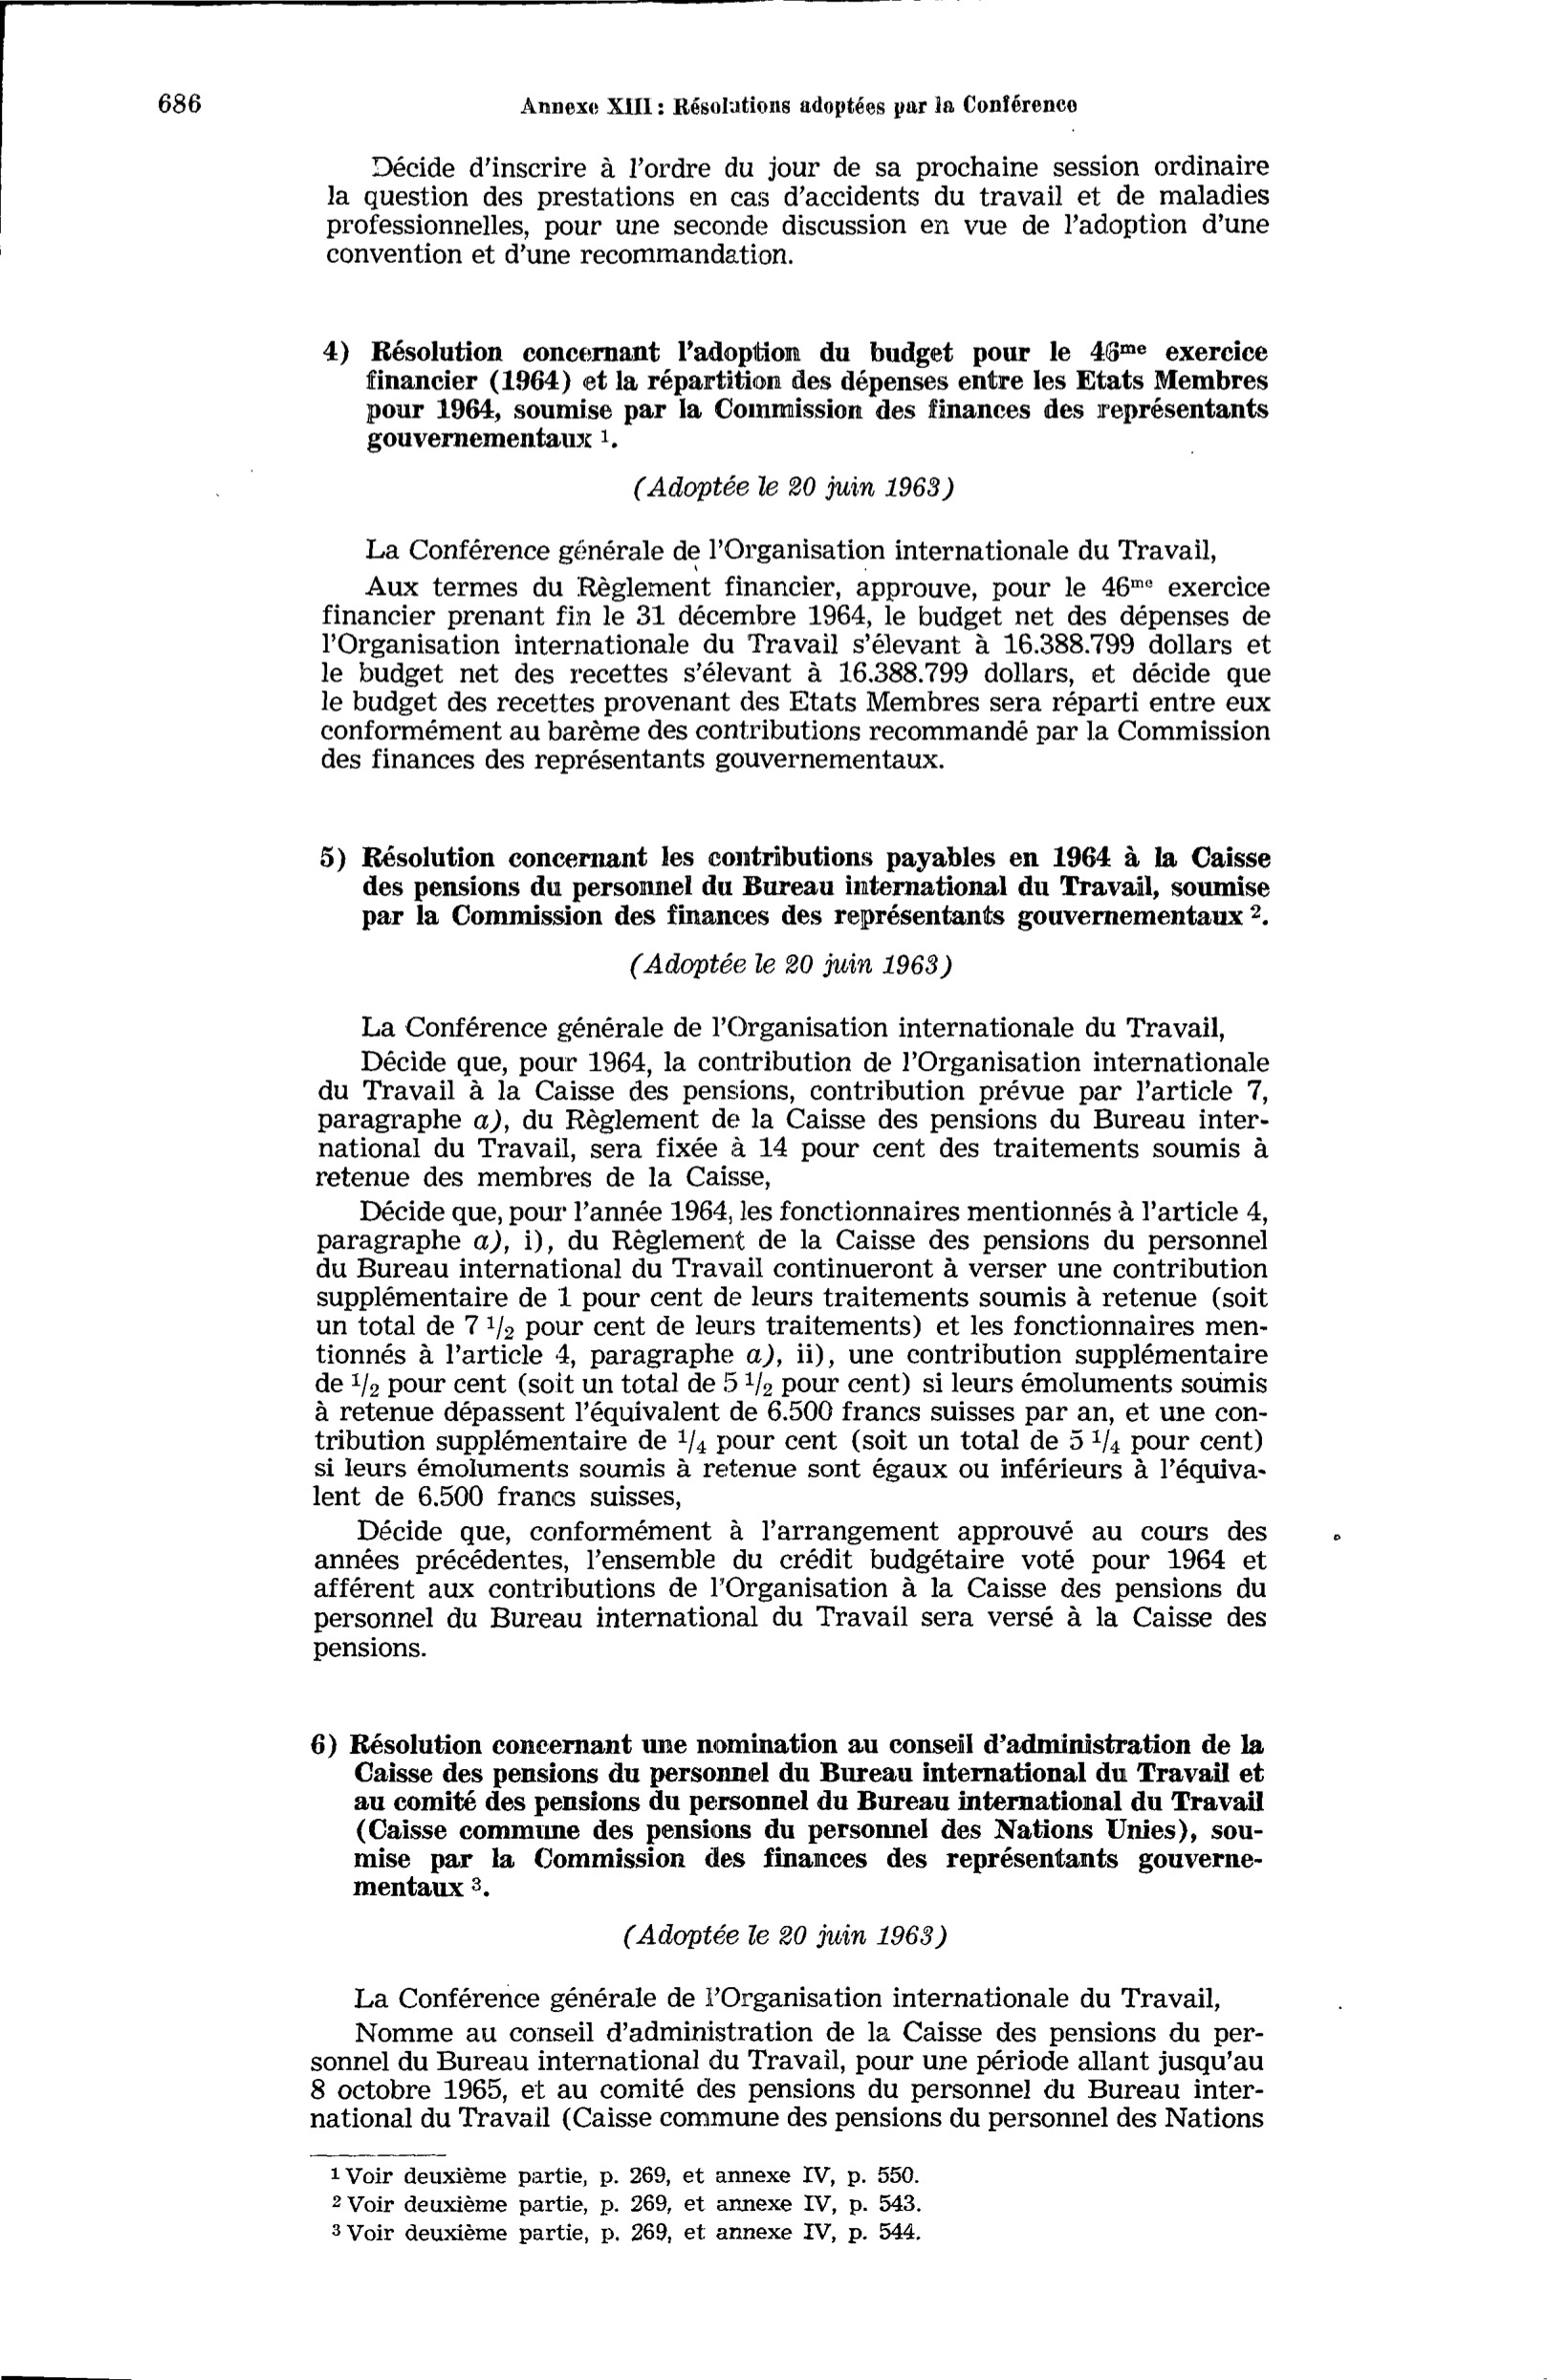MainZone-Date: (613, 1911, 963, 1959), (619, 943, 967, 988), (623, 466, 966, 511)
MainZone-Head: (298, 1722, 1276, 1905), (313, 330, 1276, 457), (310, 833, 1279, 938)
MainZone-P: (305, 1193, 1278, 1510), (310, 570, 1279, 780), (296, 1512, 1277, 1667), (306, 1044, 1281, 1192), (310, 145, 1279, 277), (302, 2016, 1275, 2142), (304, 1975, 1264, 2017), (302, 1006, 1247, 1044), (319, 529, 1236, 567)
MarginTextZone-Notes: (315, 2157, 930, 2192), (317, 2217, 931, 2252), (316, 2189, 931, 2217)
StampZone: (513, 87, 1091, 129)
TitlePageZone: (148, 81, 213, 123)
